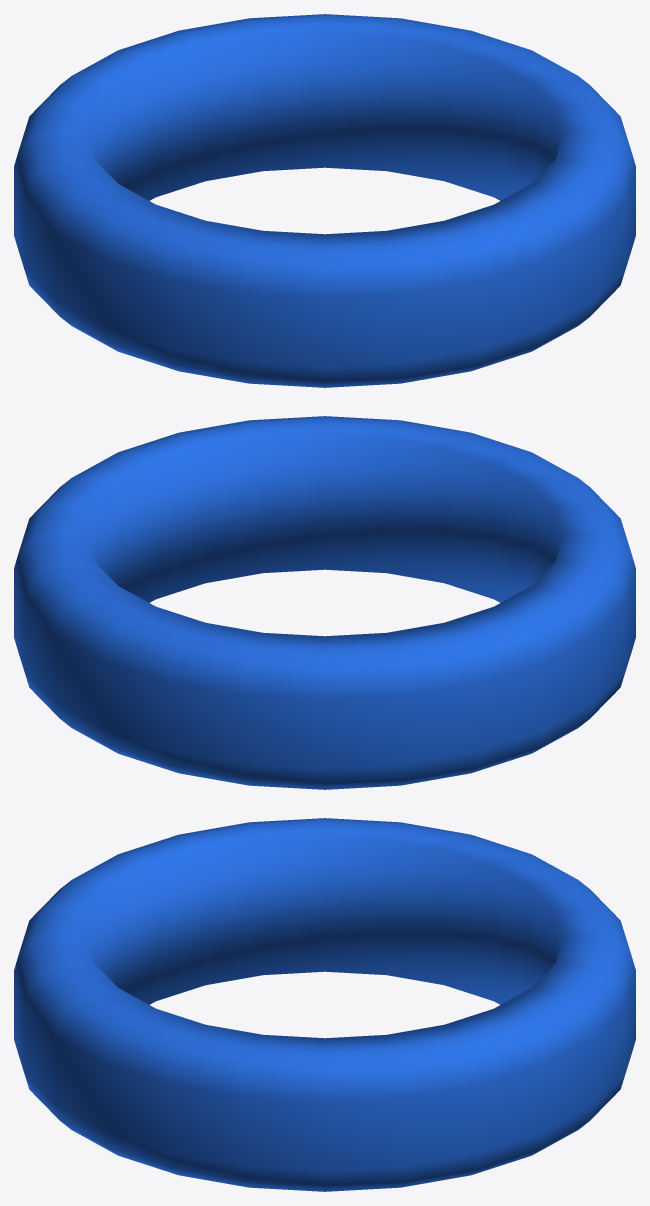
The model's file is Dron_Base_v5.fbx.
The picture shows the model from 3 angles, top to bottom: view 1: azimuth 30°, elevation 25°; view 2: azimuth 150°, elevation 25°; view 3: azimuth 270°, elevation 25°; orthographic projection.
Visible parts, largest first — view 1: Base_v4; view 2: Base_v4; view 3: Base_v4.
Boxes of the visible parts, box(x1,y1,x2,y2) form: Base_v4: box(14, 14, 635, 387); Base_v4: box(14, 416, 635, 789); Base_v4: box(14, 818, 635, 1191).
Size of the model in its own units: 260 by 62.54 by 260.
